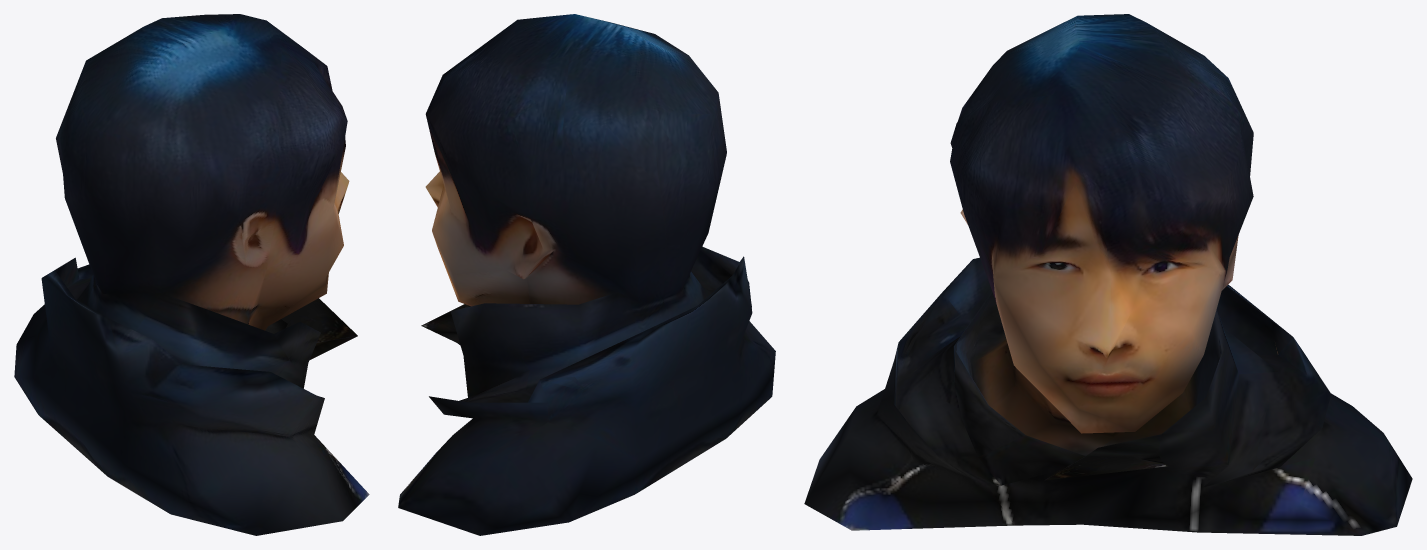
Rendered from murase_statue_bust_500p_low.glb.
The picture shows the model from 3 angles, left to right: view 1: azimuth 30°, elevation 25°; view 2: azimuth 150°, elevation 25°; view 3: azimuth 270°, elevation 25°; orthographic projection. The views are drawn at different scales.
Parts seen in each view (by area): view 1: tripo_node_de92d198-2834-4d68-b466-71b4563dd17f; view 2: tripo_node_de92d198-2834-4d68-b466-71b4563dd17f; view 3: tripo_node_de92d198-2834-4d68-b466-71b4563dd17f.
Part boxes in pixels (x1,y1,x2,y2): tripo_node_de92d198-2834-4d68-b466-71b4563dd17f: (14, 14, 369, 535); tripo_node_de92d198-2834-4d68-b466-71b4563dd17f: (398, 14, 775, 535); tripo_node_de92d198-2834-4d68-b466-71b4563dd17f: (804, 14, 1412, 535).
Size of the model in its own units: 0.6089 by 0.8338 by 0.9957.
Materials: 1 (1 with a texture image).
